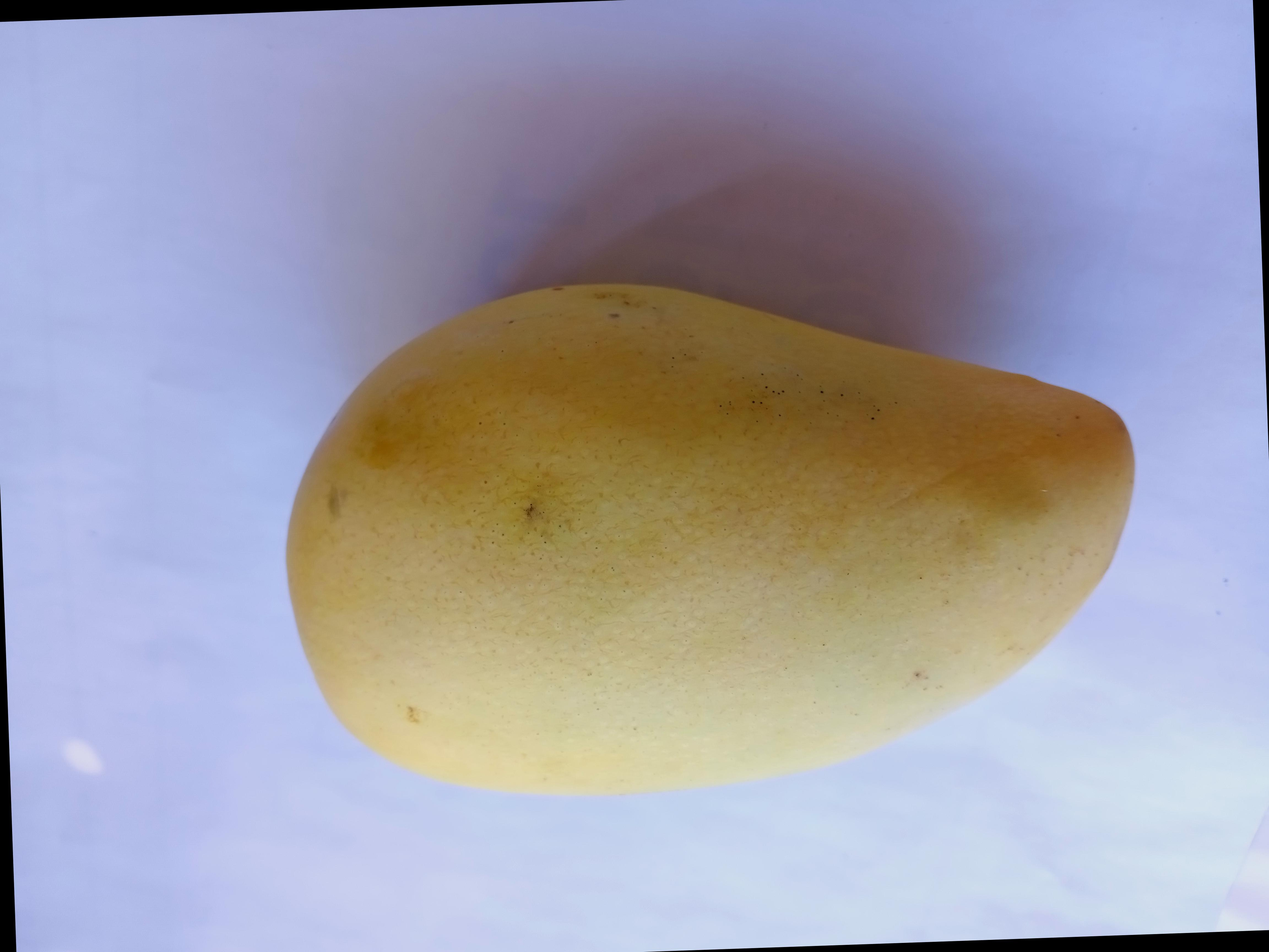Mango Ripe: (187, 281, 1192, 863)
